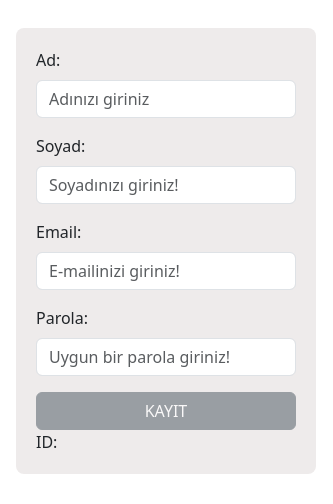
Test: Form Page › Error Messages › surname input throws error for 1 charts
Step 1. Type "a" into the field with test id "soyad-input" → (166, 185), box [36, 166, 296, 204]
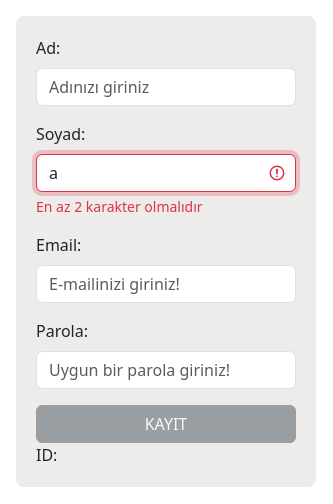
expect the text "En az 2 karakter olmalıdır" is shown: met, box [36, 196, 203, 216]
